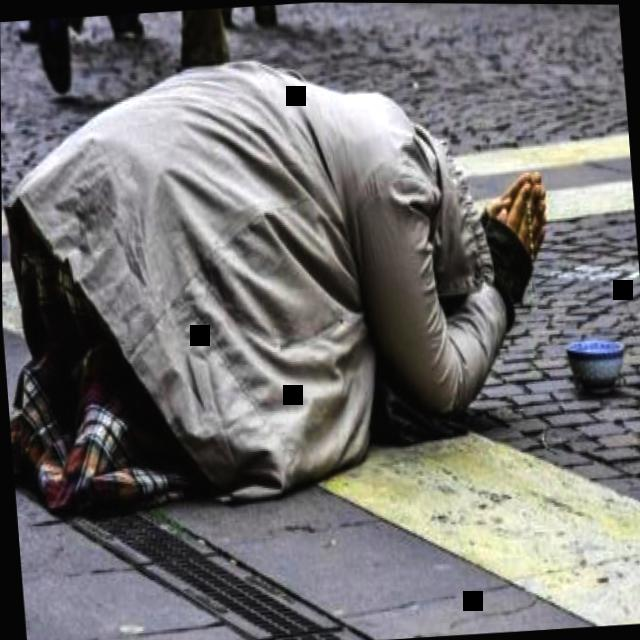Fall-Detected: (0, 23, 597, 546)
